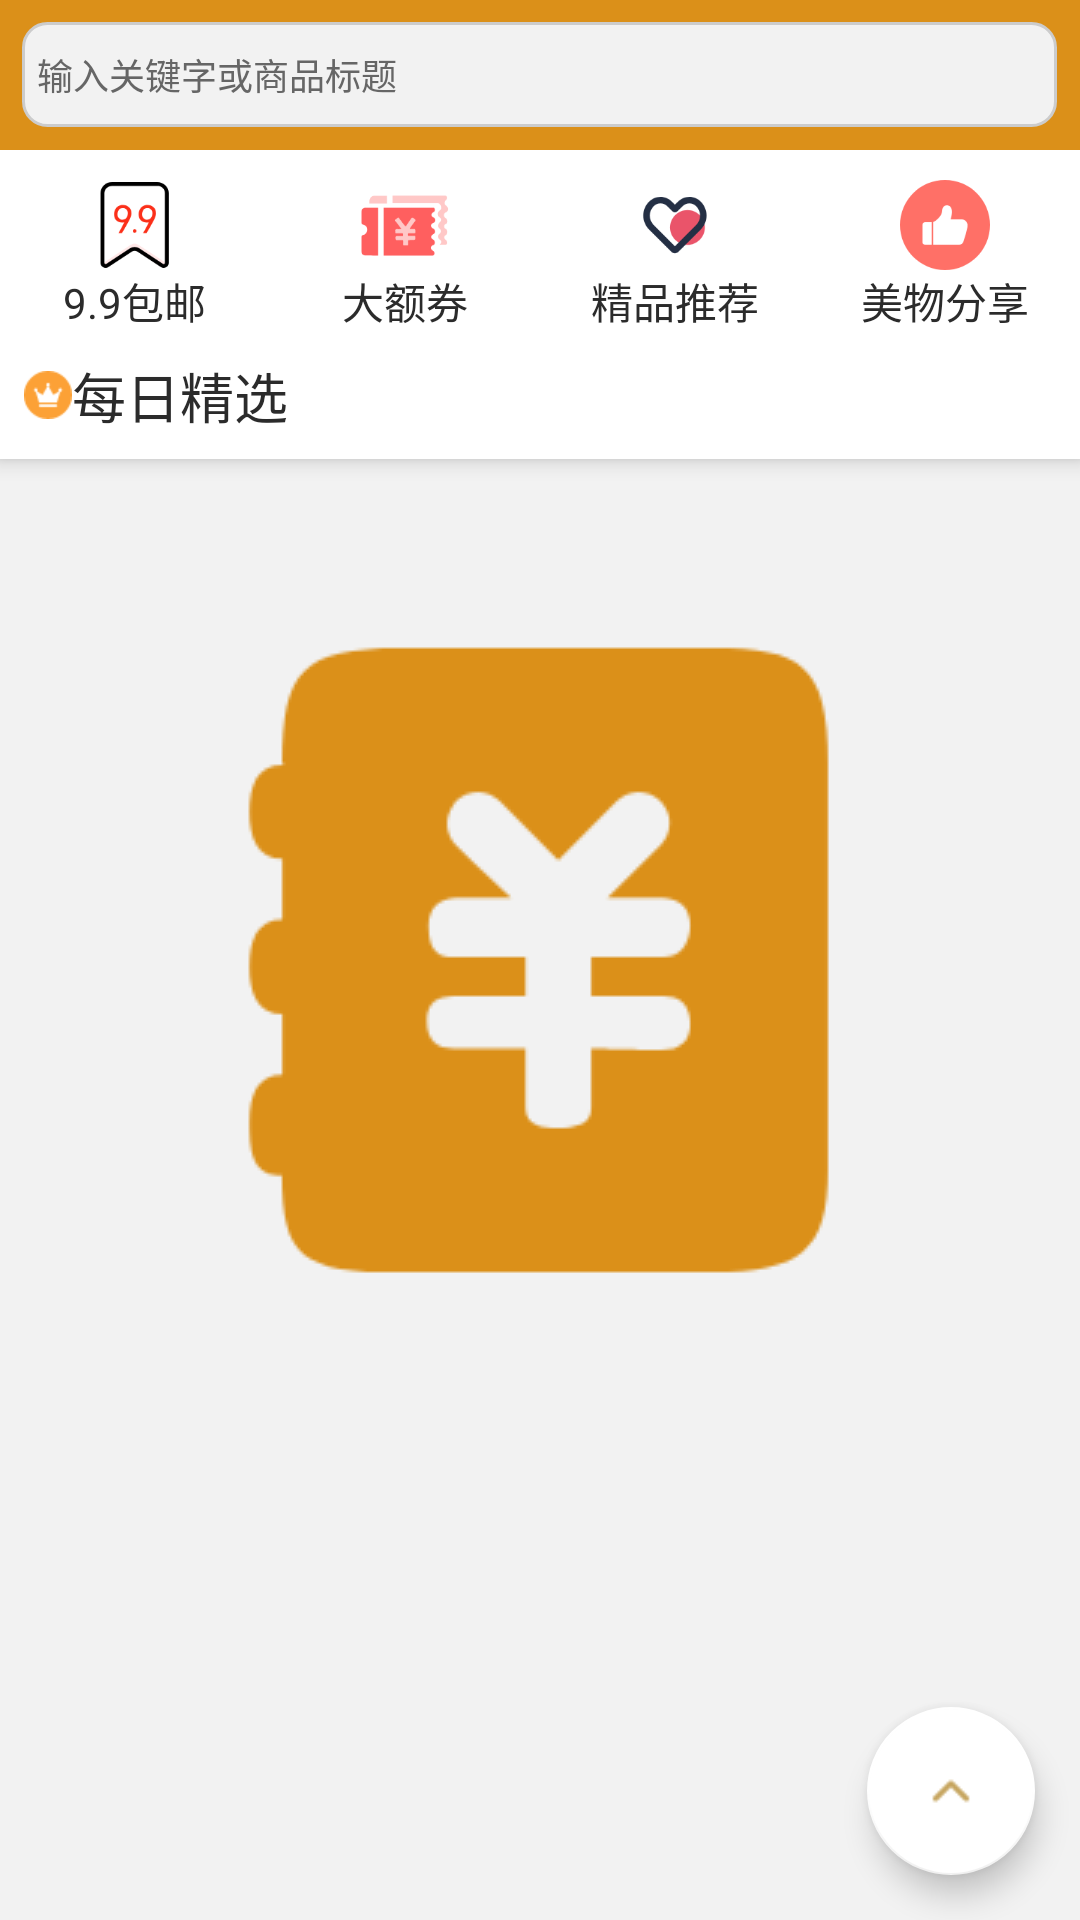

Icons on this 1080 x 1920 Android screen, each with the point to tap as [x,y]:
tao up: [951,1791]
